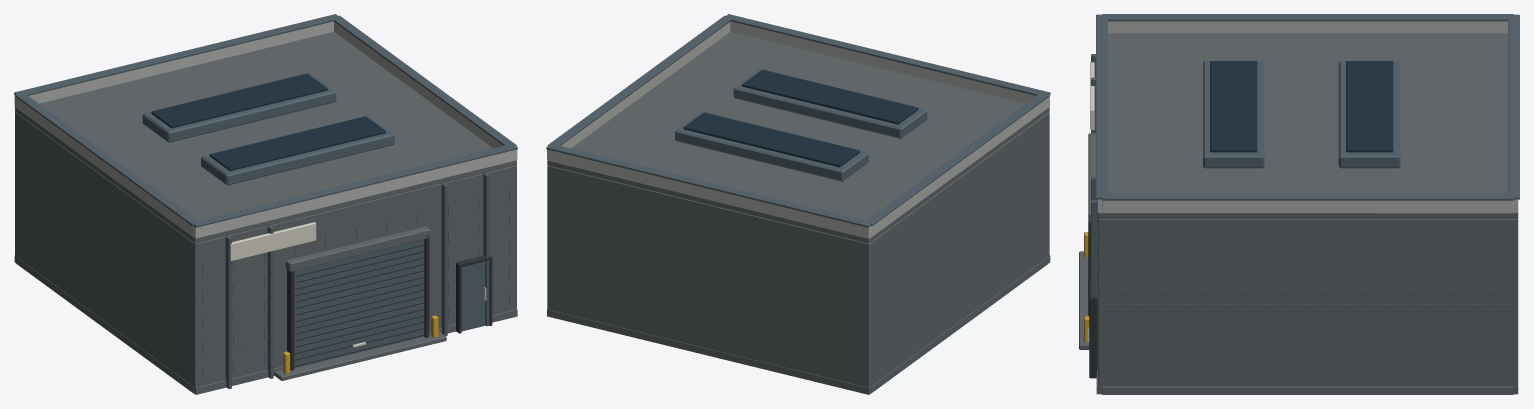
Rendered from BH_Building_Warehouse_01.glb.
3 views of the same model, side by side, from view 1: azimuth 30°, elevation 25°; view 2: azimuth 150°, elevation 25°; view 3: azimuth 270°, elevation 25° (orthographic). The views are drawn at different scales.
Parts seen in each view (by area): view 1: BH_Building_Warehouse_01_RenderMesh; view 2: BH_Building_Warehouse_01_RenderMesh; view 3: BH_Building_Warehouse_01_RenderMesh.
Part boxes in pixels (x1=…): BH_Building_Warehouse_01_RenderMesh: x1=14, y1=14, x2=517, y2=394; BH_Building_Warehouse_01_RenderMesh: x1=546, y1=14, x2=1050, y2=394; BH_Building_Warehouse_01_RenderMesh: x1=1079, y1=14, x2=1519, y2=394.
Size of what is drawn, in the model's own units: 10.59 by 5.3 by 10.7.
